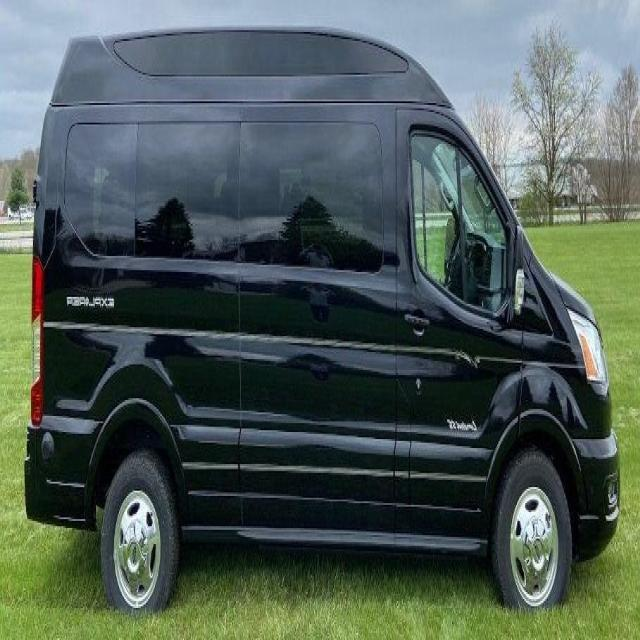Van: (24, 5, 623, 638)
